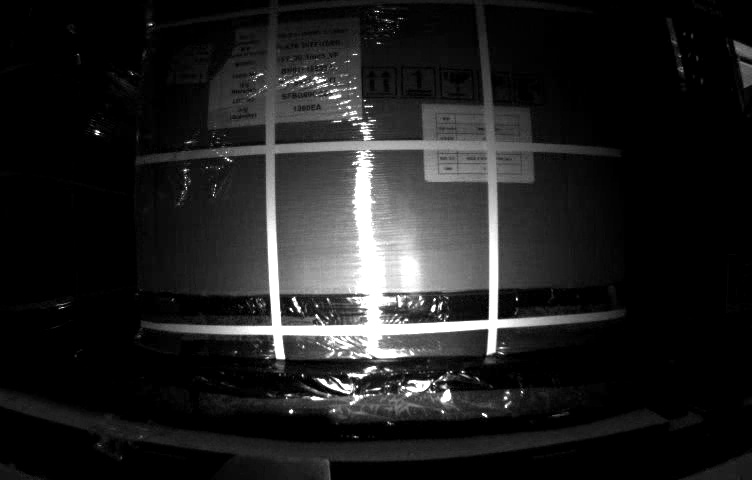True Barcode: (158, 45, 213, 83)
